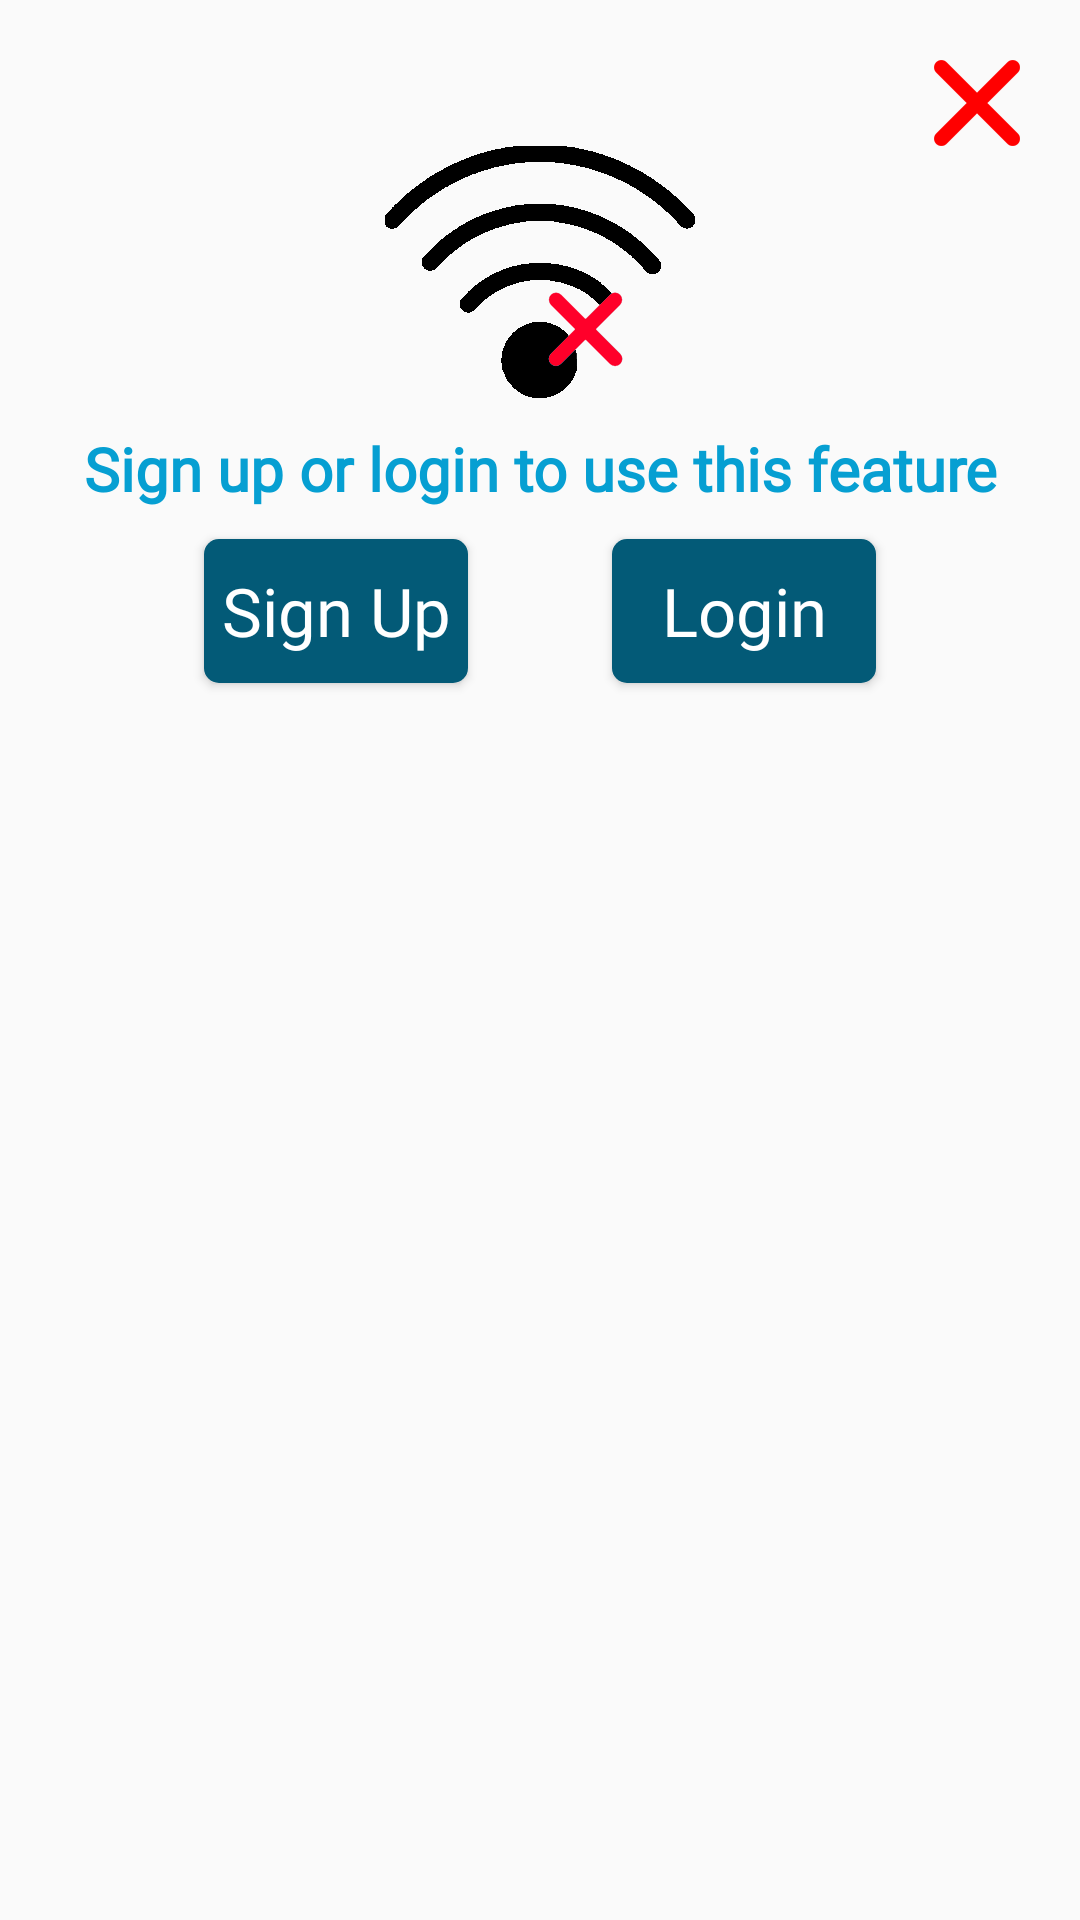

Icon bounding boxes for this 1080*1920 phone screenshot, format (x1, y1, x2, y2):
connection failed: (385, 146, 695, 398)
